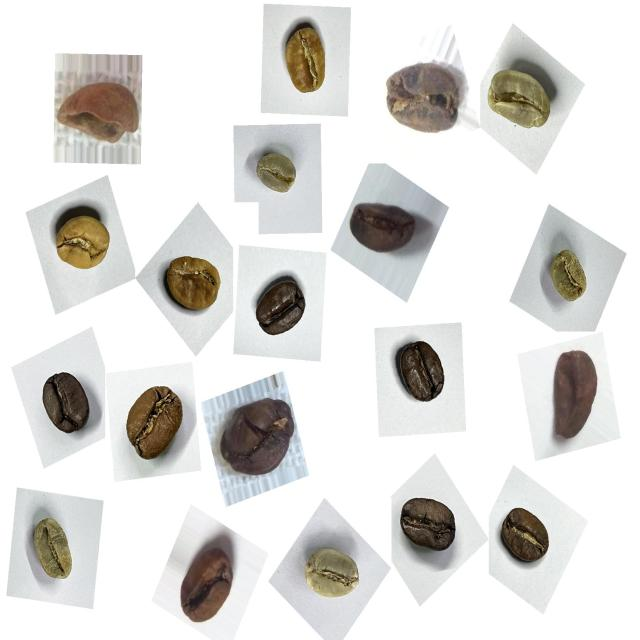bad: (216, 387, 303, 491), (376, 53, 466, 151), (51, 71, 144, 158), (541, 340, 609, 450), (173, 532, 246, 633), (342, 189, 421, 267)
dark: (390, 330, 459, 417), (394, 487, 466, 568), (33, 362, 100, 448), (249, 271, 318, 353)
green: (479, 55, 563, 146), (294, 534, 368, 613), (20, 506, 86, 593), (538, 240, 598, 314), (248, 143, 306, 206)
light: (44, 195, 120, 283), (271, 12, 340, 106), (157, 244, 230, 324)
medium: (114, 373, 194, 474), (492, 497, 560, 576)
